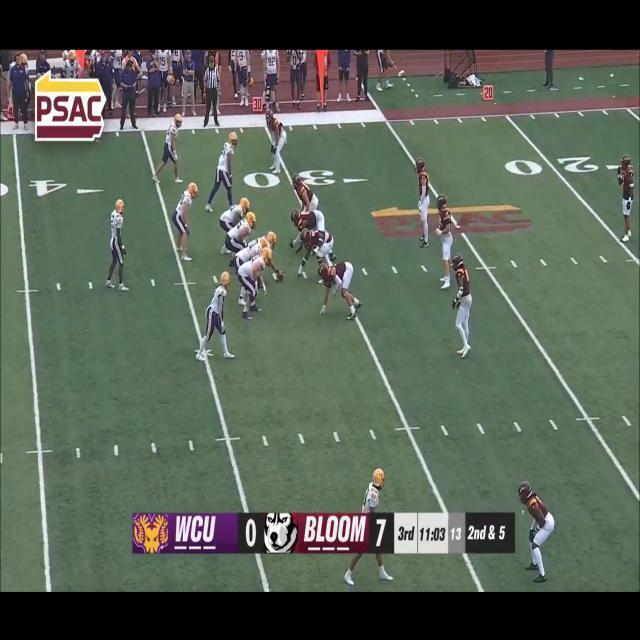football: (276, 268, 286, 286)
